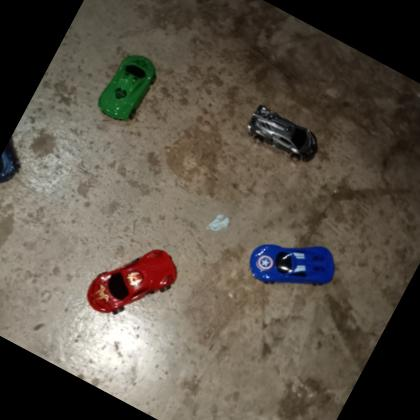Car: (78, 226, 188, 340), (240, 217, 345, 314), (239, 99, 328, 172), (92, 45, 165, 129)
